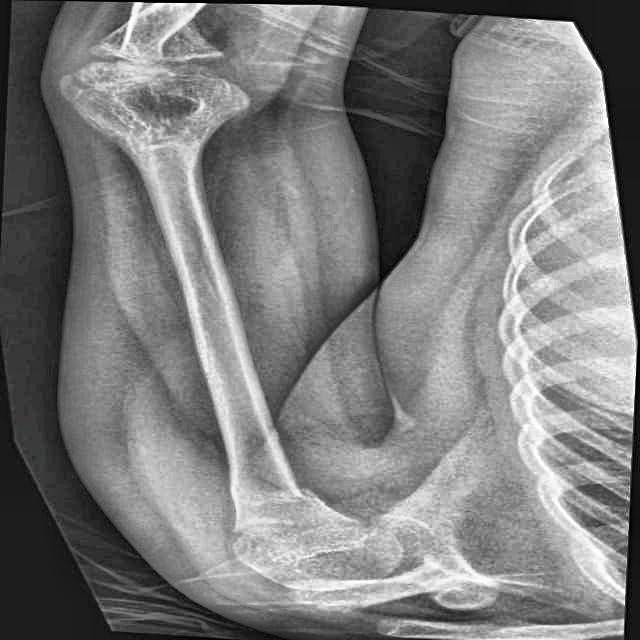Oblique Displaced: (212, 418, 337, 516)
